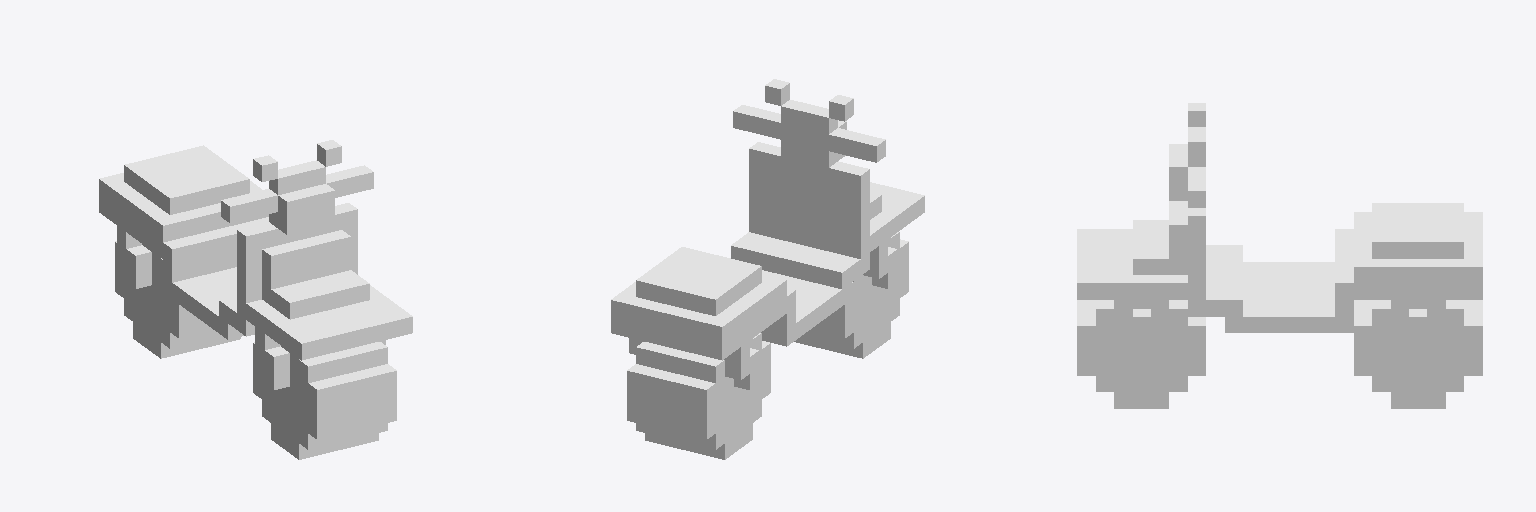
File: moto2.obj
The picture shows the model from 3 angles: view 1: azimuth 30°, elevation 25°; view 2: azimuth 150°, elevation 25°; view 3: azimuth 270°, elevation 25°; orthographic projection.
Parts seen in each view (by area): view 1: object 1; view 2: object 1; view 3: object 1.
Part boxes in pixels (x1,y1,x2,y2): object 1: (99, 140, 412, 459); object 1: (611, 79, 924, 459); object 1: (1077, 103, 1482, 408).
Size of the model in its own units: 0.9 by 1.6 by 2.2.